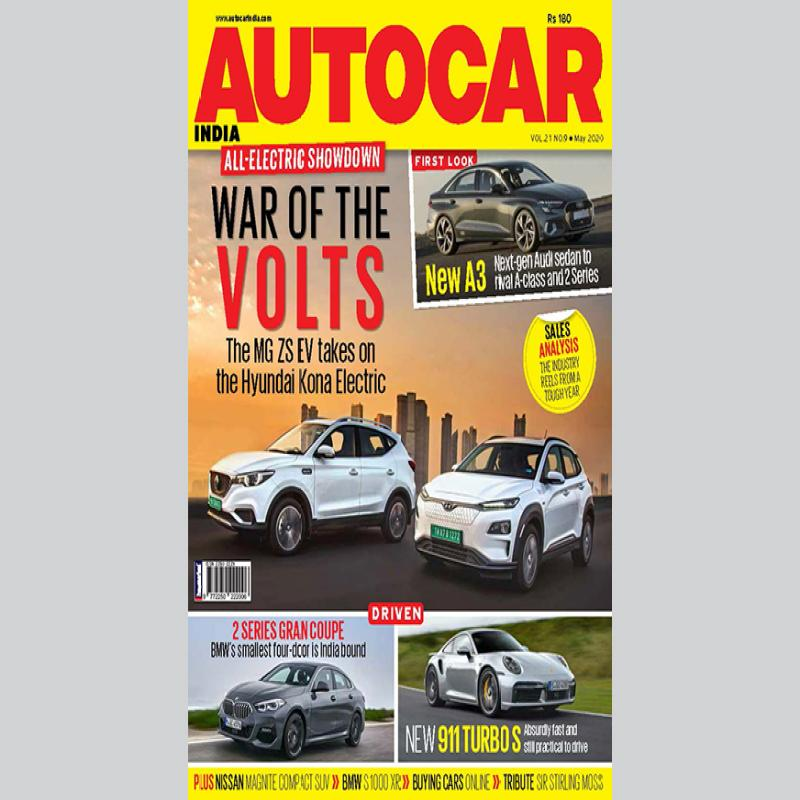car: (413, 418, 603, 576), (206, 414, 421, 526)
